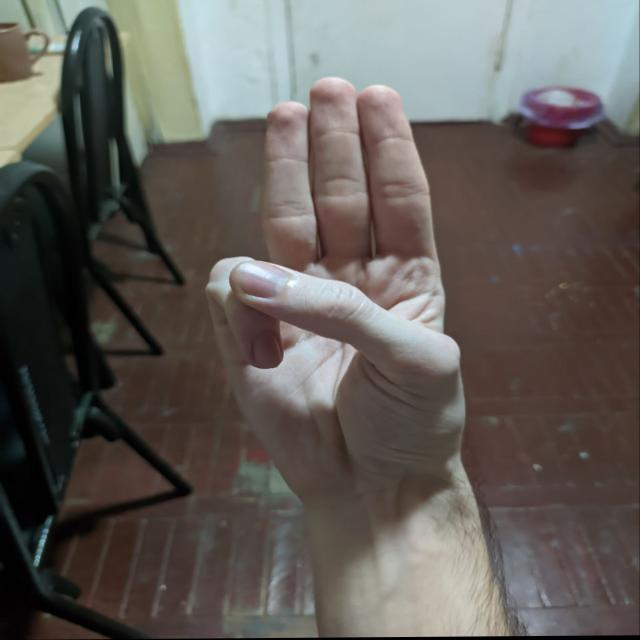sh: (206, 85, 496, 489)
